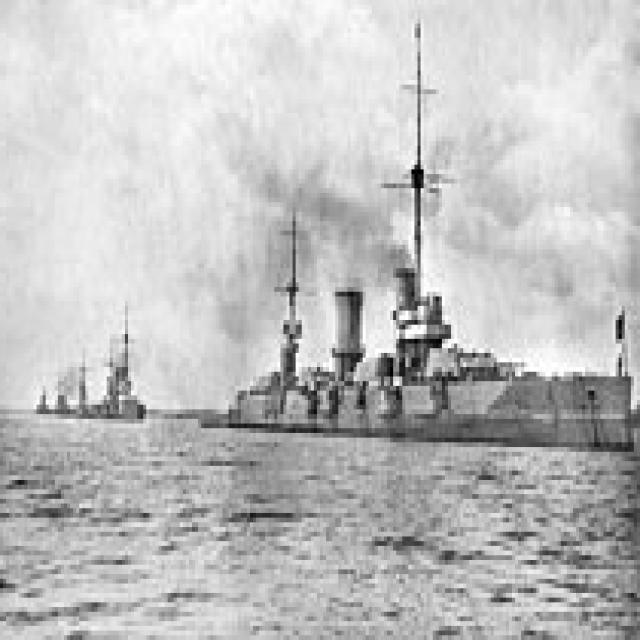Warship: (204, 9, 637, 452), (36, 296, 158, 419)
